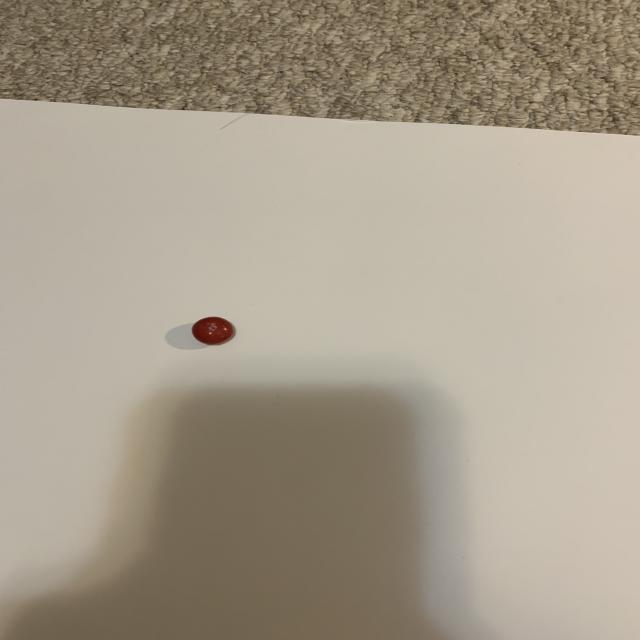smartie: (191, 317, 233, 345)
